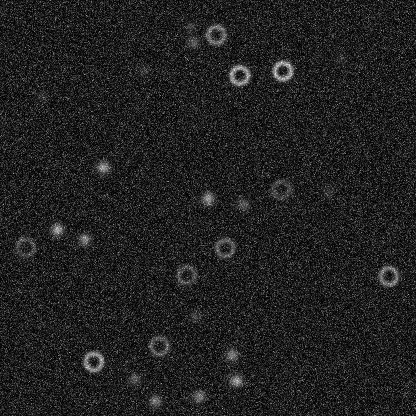Ring: (174, 262, 198, 286), (13, 235, 37, 259), (268, 177, 292, 201), (81, 349, 105, 373), (376, 263, 400, 287), (203, 22, 227, 46), (147, 333, 171, 357), (212, 235, 236, 259), (227, 63, 251, 87), (270, 58, 294, 82)
Spot: (199, 190, 215, 206), (184, 34, 200, 50), (228, 372, 244, 388), (332, 50, 348, 66), (190, 388, 206, 404), (319, 183, 335, 199), (182, 18, 198, 34), (76, 231, 92, 247), (49, 221, 65, 237), (187, 308, 203, 324), (223, 346, 239, 362), (146, 392, 162, 408), (33, 88, 49, 104), (235, 196, 251, 212), (126, 371, 142, 387), (94, 159, 110, 175), (135, 61, 151, 77)
